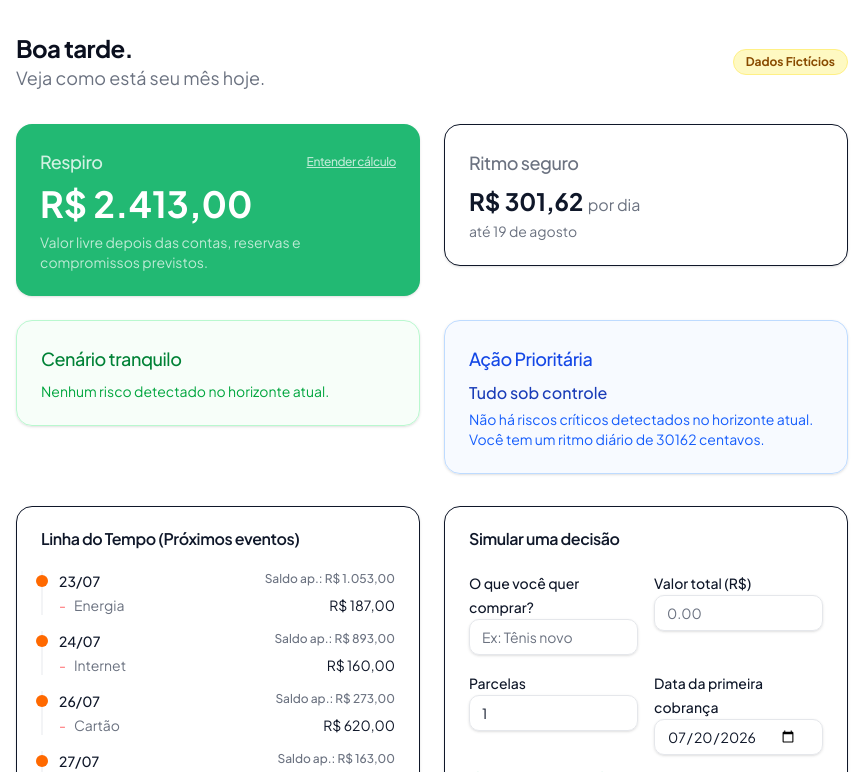
it: TodayDashboardPrototype (Decision Engine Integration) › 4 e 5. Simulação de compra à vista (cria risco) e deduz do Respiro
Type "3000" into the number field labelled "Valor total (R$)" at (738, 613), box [654,595,823,631]
(page scrolled)
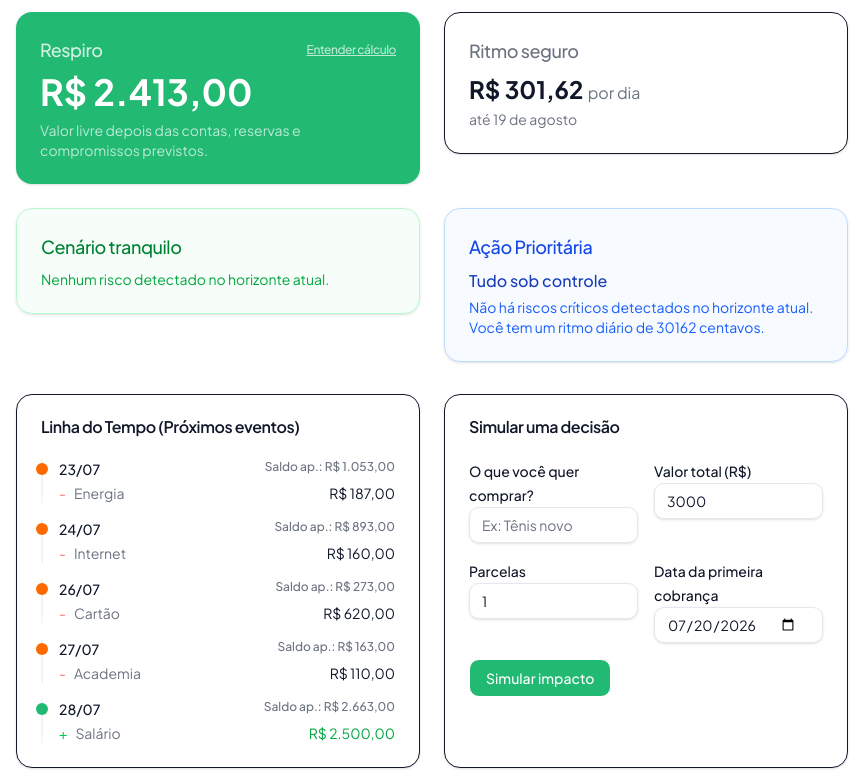
Click the button "Simular impacto" at (540, 678), box [469,659,611,697]
(page scrolled)
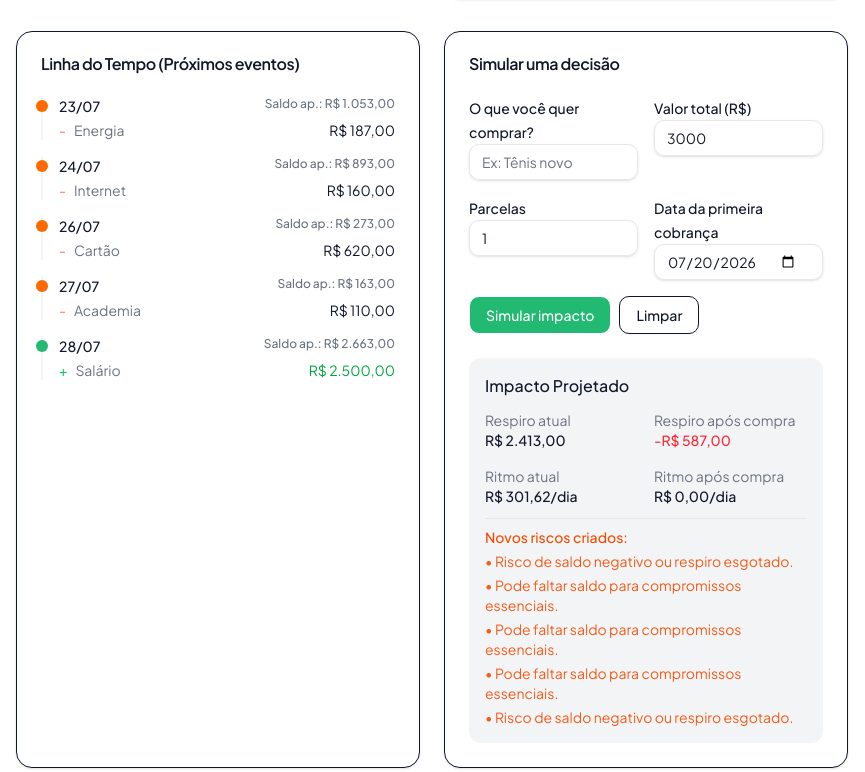
Check: the heading "Impacto Projetado" is shown, box [485,375,629,396]
Check: the 1st list item "• Pode faltar saldo para compromissos essenciais." is shown, box [485,576,742,614]
Check: the text "-R$ 587,00" is shown, box [654,431,731,449]
